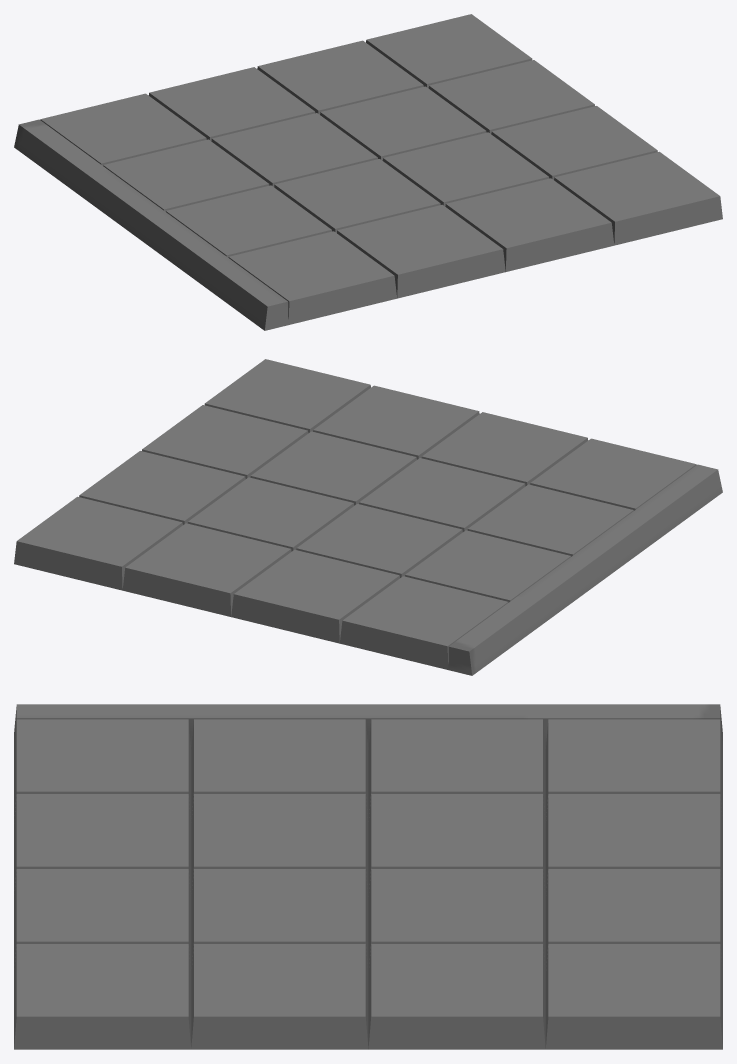
File: walkway.fbx
The picture shows the model from 3 angles, top to bottom: view 1: azimuth 30°, elevation 25°; view 2: azimuth 150°, elevation 25°; view 3: azimuth 270°, elevation 25°; orthographic projection. The views are drawn at different scales.
Visible parts, largest first — view 1: Cube, Cube.001; view 2: Cube, Cube.001; view 3: Cube, Cube.001.
Part boxes in pixels (box(x1,y1,x2,y2)): Cube: box(40, 14, 722, 324); Cube.001: box(14, 119, 288, 330); Cube: box(14, 359, 696, 669); Cube.001: box(448, 464, 722, 675); Cube: box(14, 719, 722, 1049); Cube.001: box(14, 704, 722, 749).
Size of the model in its own units: 211 by 10 by 200.
